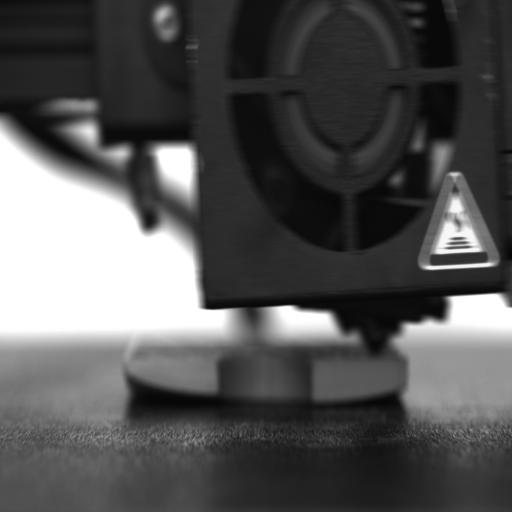warp: (123, 365, 177, 403)
